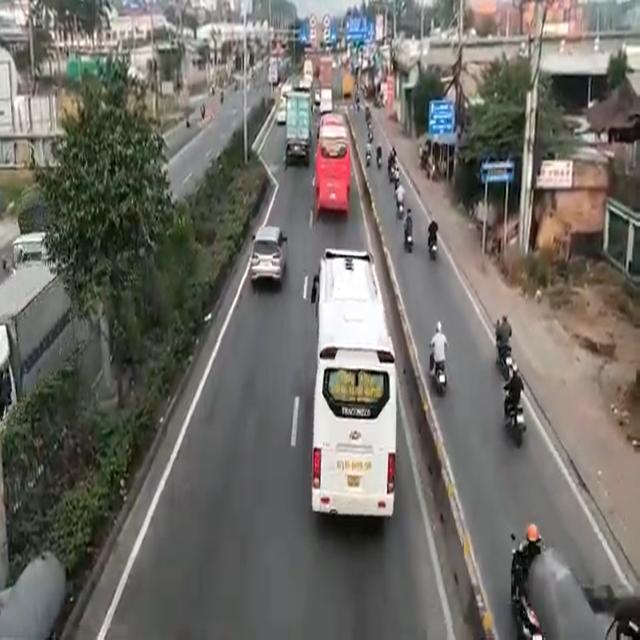bus: (315, 254, 397, 524), (317, 115, 347, 222)
car: (247, 220, 285, 290)
motor: (508, 536, 539, 635), (423, 327, 451, 398), (501, 364, 522, 432), (493, 318, 511, 354)
truck: (0, 249, 87, 414), (285, 94, 308, 160)
